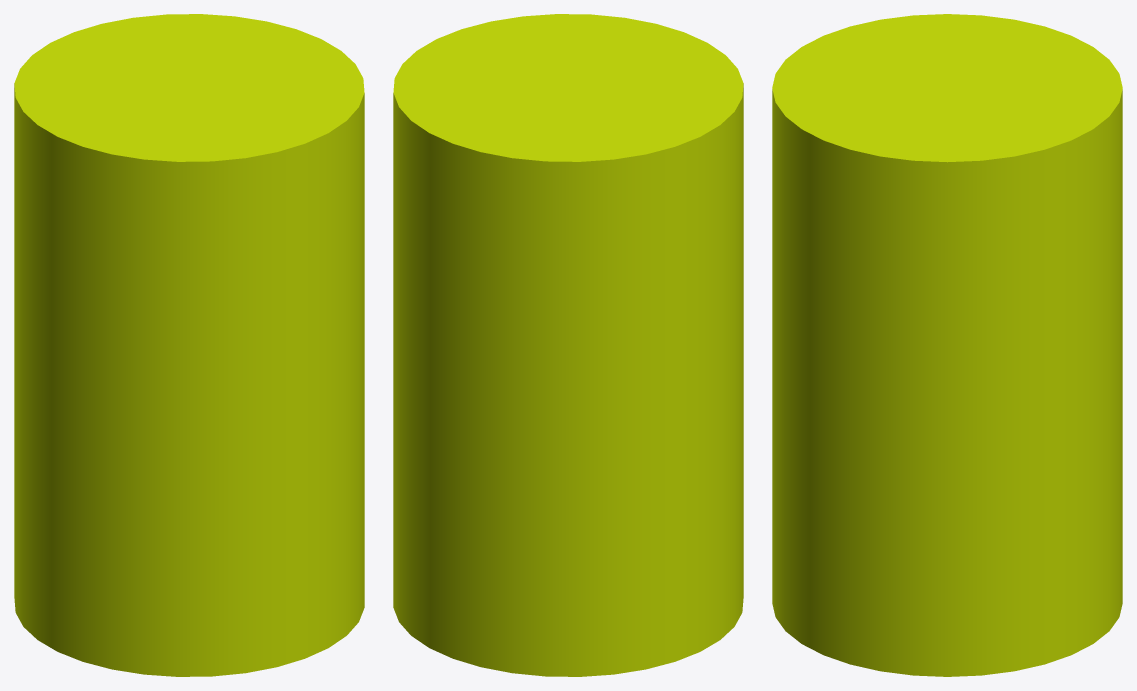
File: piece2.gltf
3 views of the same model, side by side, from view 1: azimuth 30°, elevation 25°; view 2: azimuth 150°, elevation 25°; view 3: azimuth 270°, elevation 25° (orthographic).
Parts seen in each view (by area): view 1: Cylinder.001; view 2: Cylinder.001; view 3: Cylinder.001.
Part boxes in pixels (x1,y1,x2,y2): Cylinder.001: (14, 14, 364, 676); Cylinder.001: (393, 14, 743, 676); Cylinder.001: (772, 14, 1122, 676).
Bounding box in the file's own units: 0.8 × 1.3 × 0.8.
